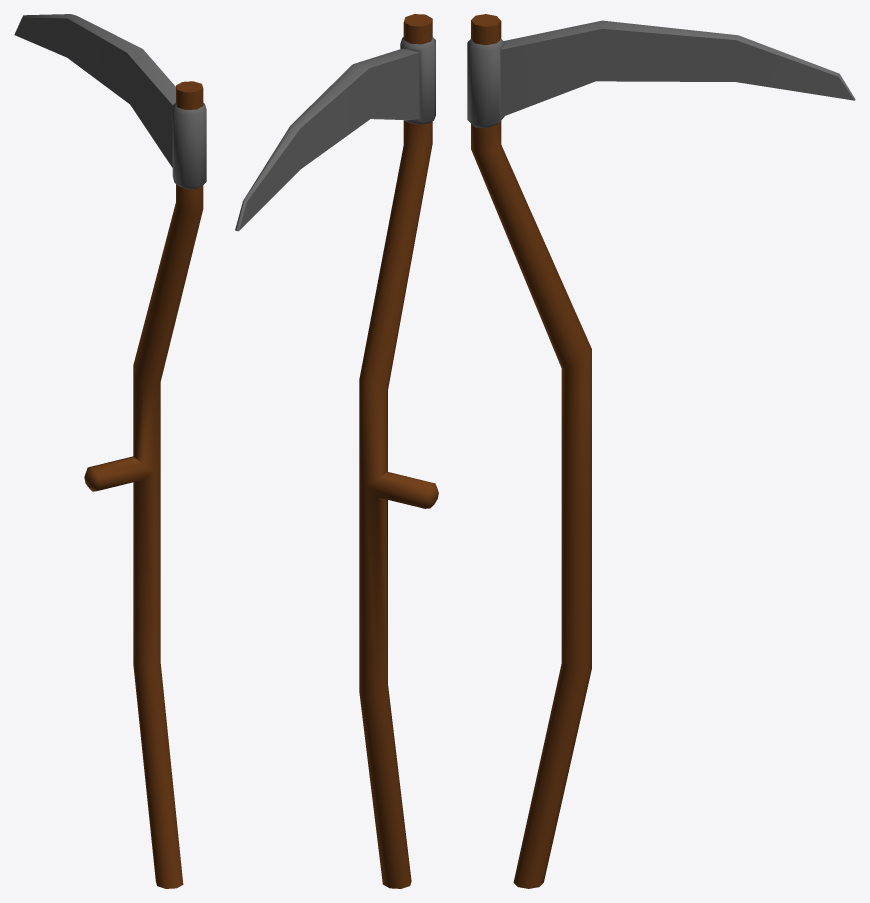
Rendered from Scythe.fbx.
The picture shows the model from 3 angles, left to right: view 1: azimuth 30°, elevation 25°; view 2: azimuth 150°, elevation 25°; view 3: azimuth 270°, elevation 25°; orthographic projection. The views are drawn at different scales.
Parts seen in each view (by area): view 1: Scythe; view 2: Scythe; view 3: Scythe.
Part boxes in pixels (x1,y1,x2,y2): Scythe: (14,14,206,888); Scythe: (235,14,438,888); Scythe: (467,14,855,888).
Size of the model in its own units: 0.1798 by 0.7694 by 1.88.
